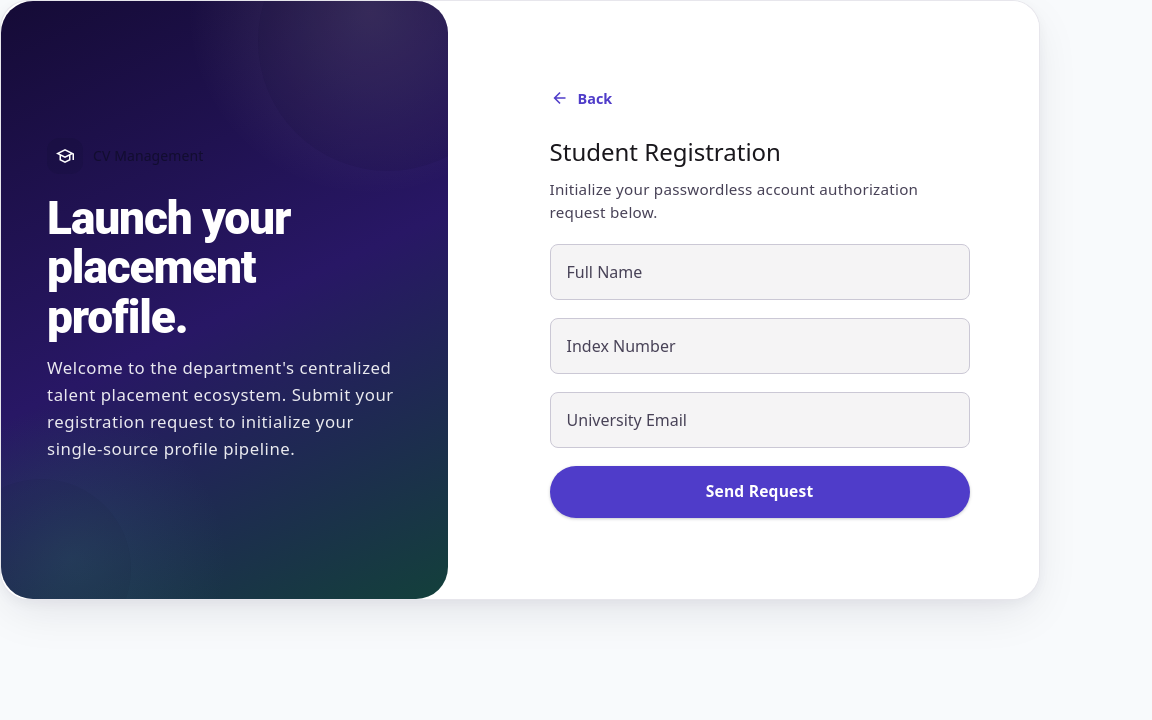
Scenario: student Sprint 2 authentication › shows validation feedback for required sign-up fields
Click the button "Send Request" at (760, 492), box [550,466,970,518]
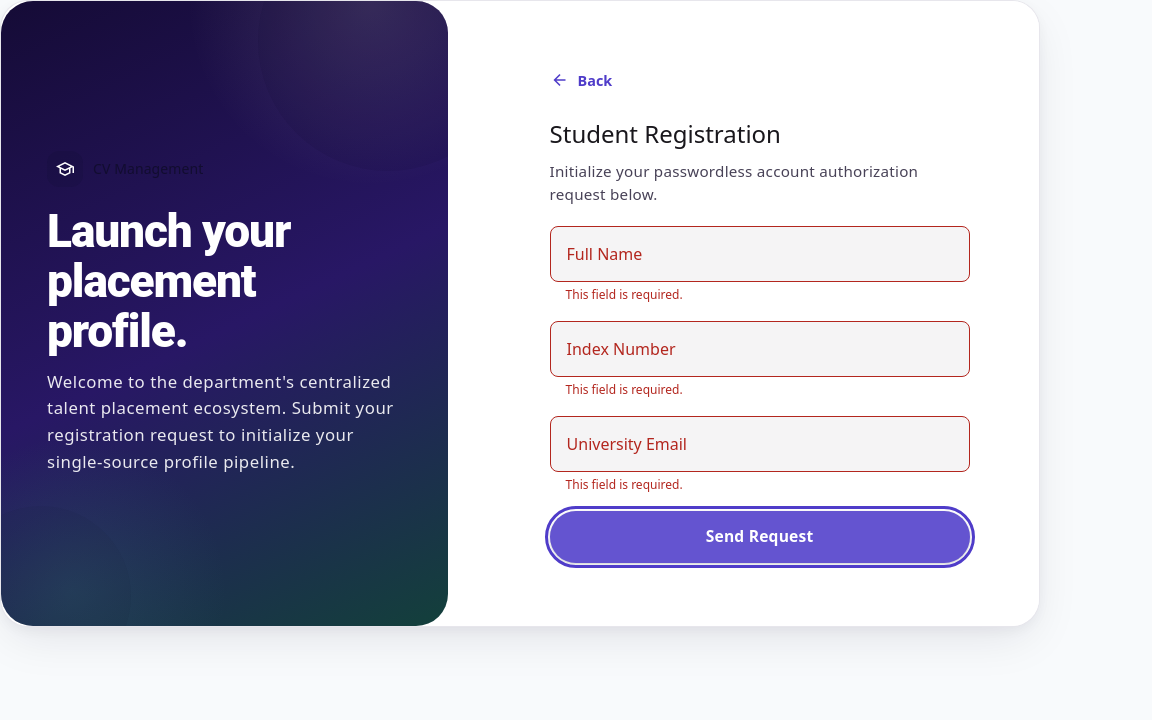
Result: the text "This field is required." is shown 3 times at [566,286,683,303]; [566,381,683,398]; [566,476,683,493]
